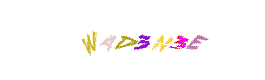3: (93, 0, 173, 80), (140, 0, 220, 80)
A: (92, 0, 172, 80)
D: (93, 0, 173, 80)
E: (146, 0, 226, 80)
N: (115, 0, 195, 80)
W: (70, 0, 150, 80)
